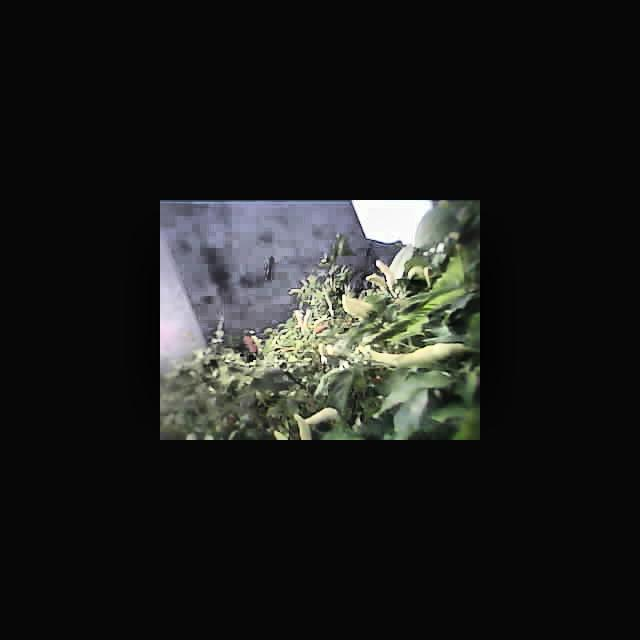Cabai: (236, 328, 265, 359)
